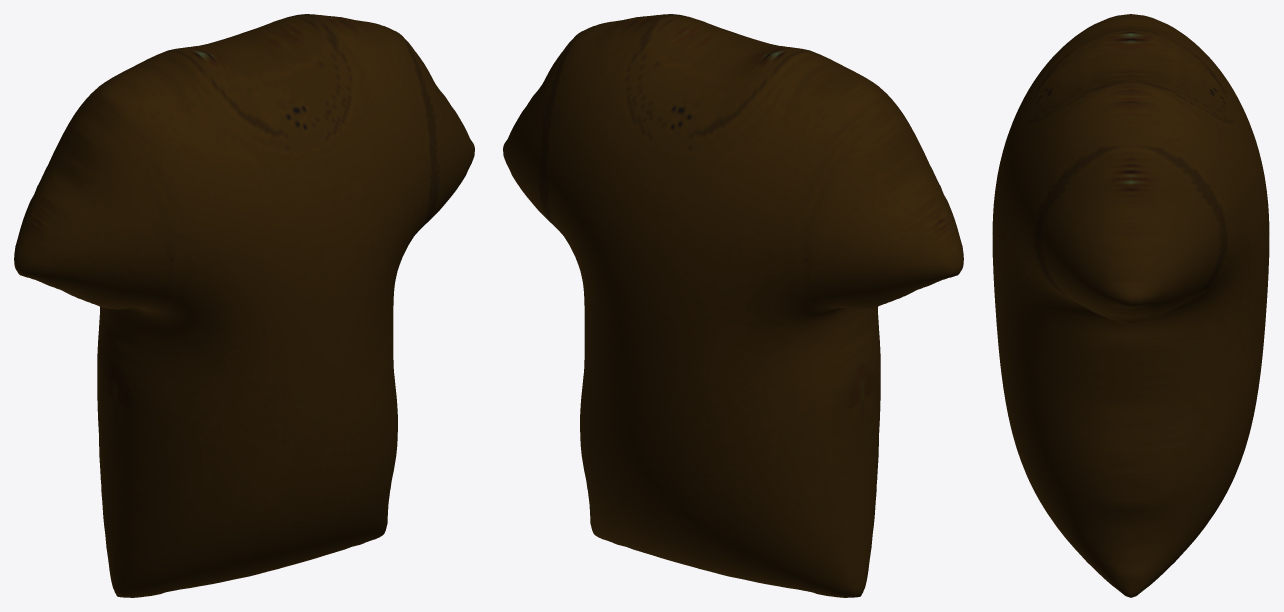
File: cloth@23=cloth_front.glb
3 renders of one model, left to right at view 1: azimuth 30°, elevation 25°; view 2: azimuth 150°, elevation 25°; view 3: azimuth 270°, elevation 25°, orthographic. The views are drawn at different scales.
Size of the model in its own units: 6.48 by 7.24 by 3.71.
Materials: 1 (1 with a texture image).
